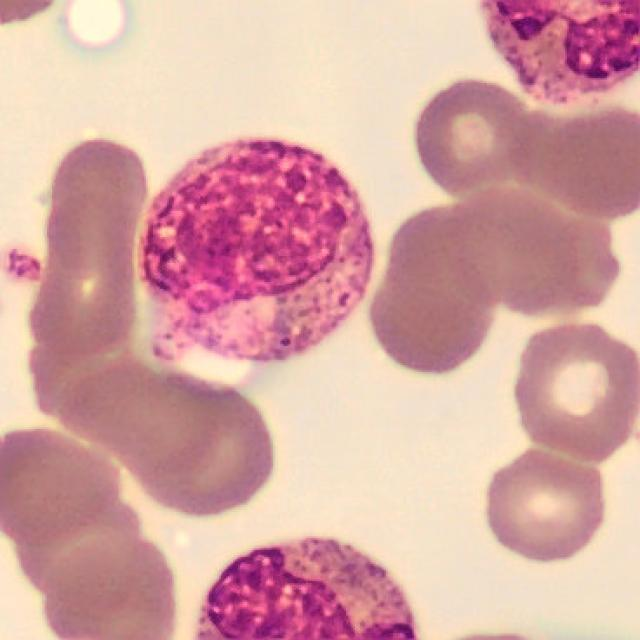Mielocito: (143, 140, 370, 360)
